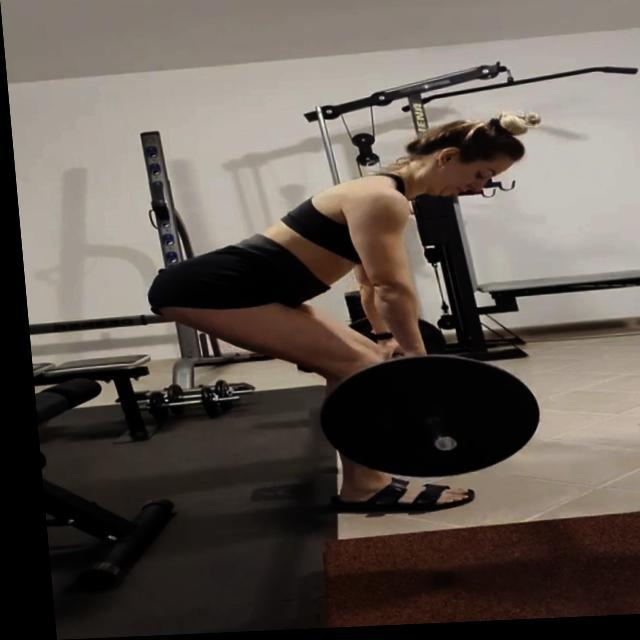barbell: (307, 354, 540, 489)
